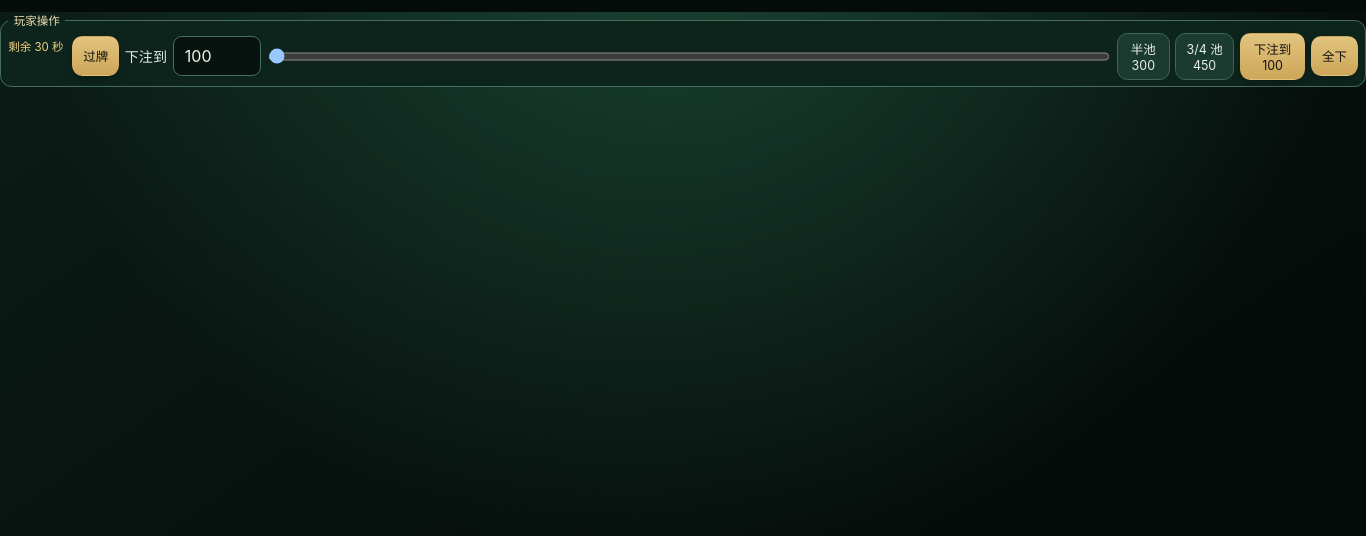
Test: server-authoritative action controls › offers only valid pot shortcuts, changes the total input, and exposes the deadline
Expected: the text "剩余 30 秒" is shown, [8, 38, 64, 54]
Expected: the button "半池 300" is shown, [1117, 33, 1170, 80]
Step 1. Click the button "3/4 池 450" → click(1205, 56), box [1175, 33, 1234, 80]
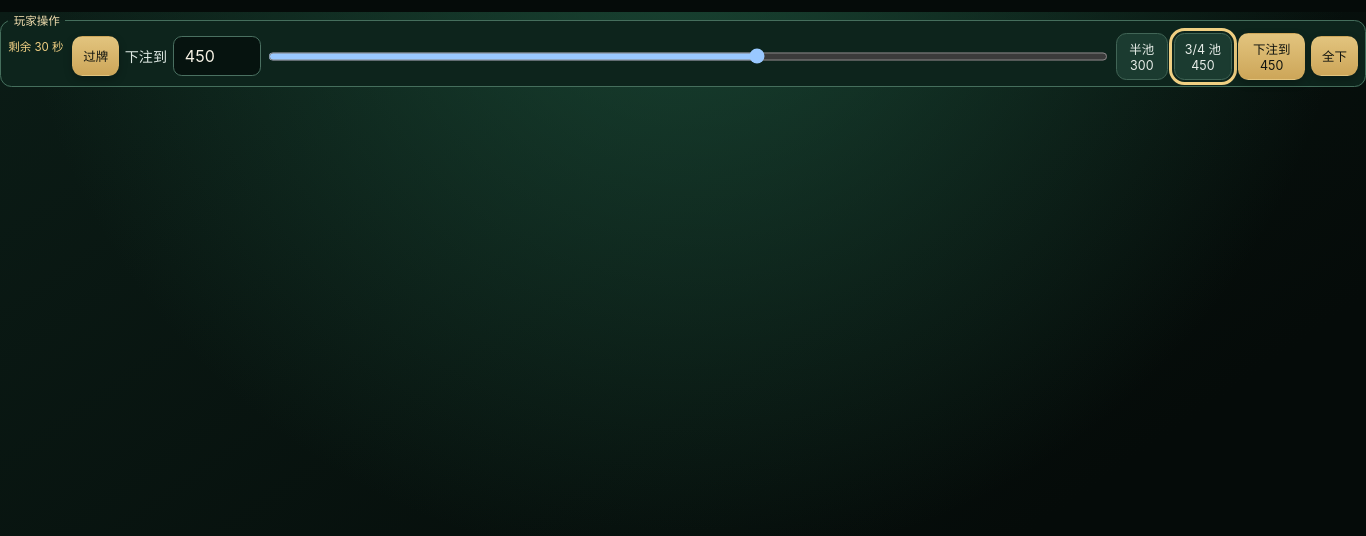
Now the number field labelled "下注到" holds "450", box [173, 36, 261, 76]
Now the slider named "下注到滑块" holds "450"
Step 2. Set the slider named "下注到滑块" to "625" → (997, 56), box [268, 36, 1108, 77]
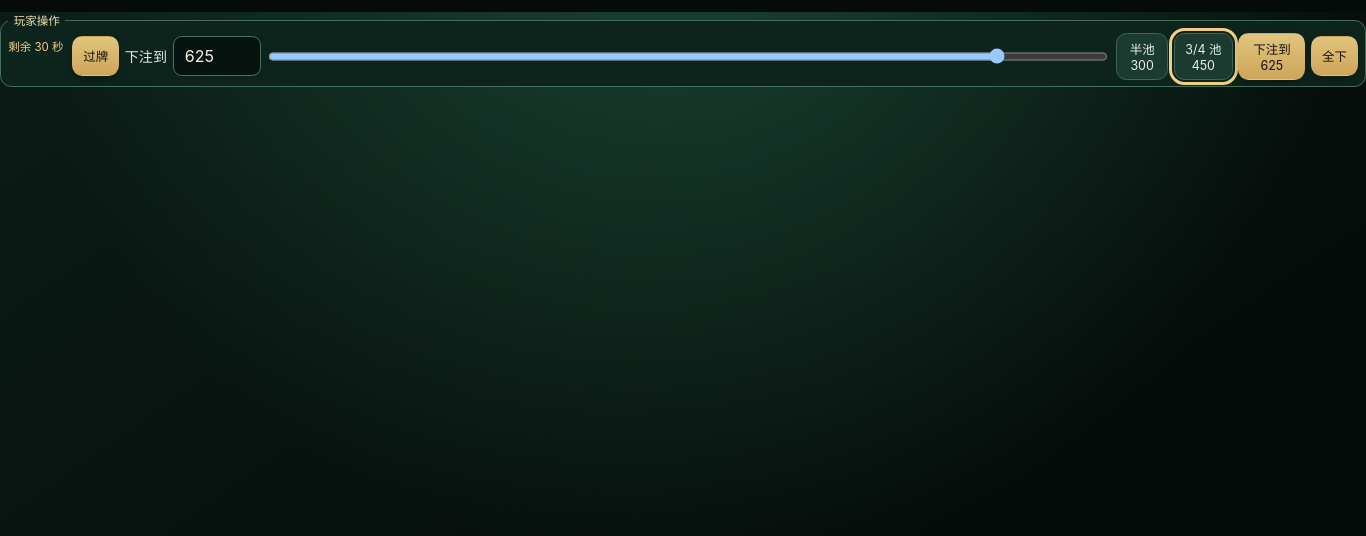
Now the number field labelled "下注到" holds "625", box [173, 36, 261, 76]
